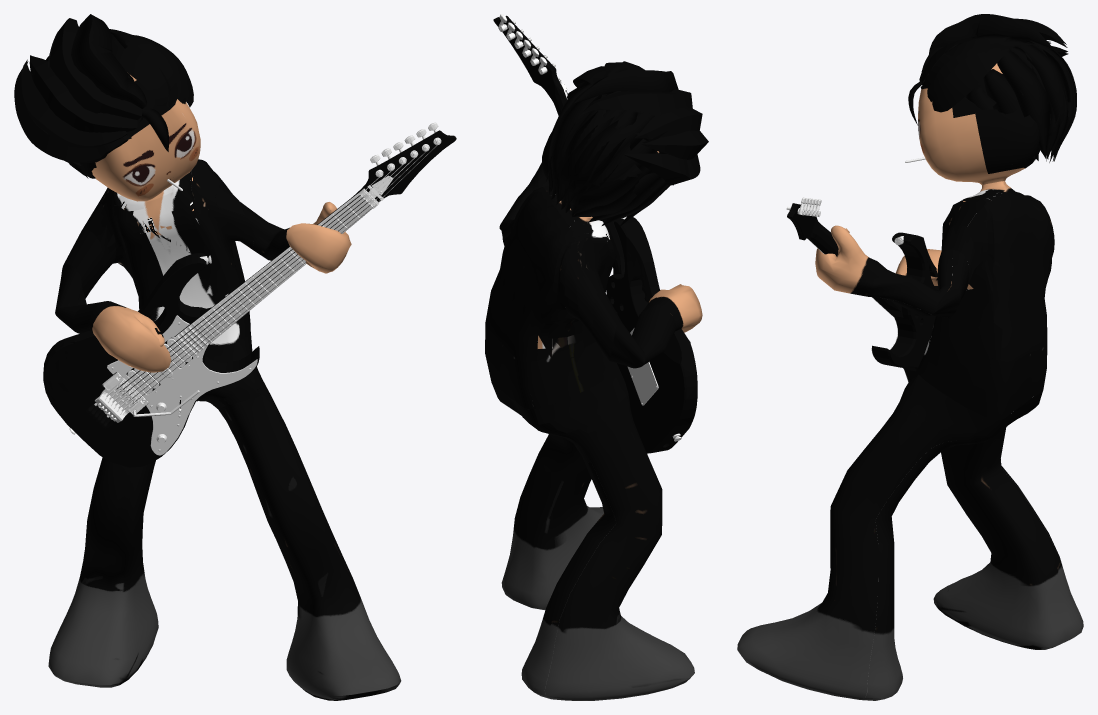
File: personaje2_draco.glb
3 renders of one model, left to right at view 1: azimuth 30°, elevation 25°; view 2: azimuth 150°, elevation 25°; view 3: azimuth 270°, elevation 25°, orthographic. The views are drawn at different scales.
Parts seen in each view (by area): view 1: cuerpo-Nodo, uv1_combined_pCylinder9uvd-RS Standard.1 (×6), Nulo, cuerpo-RS Standard.1 (×7); view 2: cuerpo-Nodo, cuerpo-RS Standard.1 (×11), Nulo, uv1_combined_pCylinder9uvd-RS Standard.1 (×3); view 3: cuerpo-Nodo, cuerpo-RS Standard.1 (×5), Nulo, uv1_combined_pCylinder9uvd-RS Standard.1 (×2).
Boxes of the visible parts, x1,y1,x2,y2 form: cuerpo-Nodo: (48,75,401,700); uv1_combined_pCylinder9uvd-RS Standard.1 (×6): (43,122,456,467); Nulo: (14,14,193,178); cuerpo-RS Standard.1 (×7): (55,159,266,408); cuerpo-Nodo: (485,151,702,700); cuerpo-RS Standard.1 (×11): (485,187,676,484); Nulo: (546,61,708,227); uv1_combined_pCylinder9uvd-RS Standard.1 (×3): (493,14,697,453); cuerpo-Nodo: (737,63,1083,700); cuerpo-RS Standard.1 (×5): (901,73,1054,448); Nulo: (908,14,1076,164); uv1_combined_pCylinder9uvd-RS Standard.1 (×2): (787,203,938,381).
Size of the model in its own units: 1.68 by 3.2 by 1.67.
4 materials, 1 textured.
